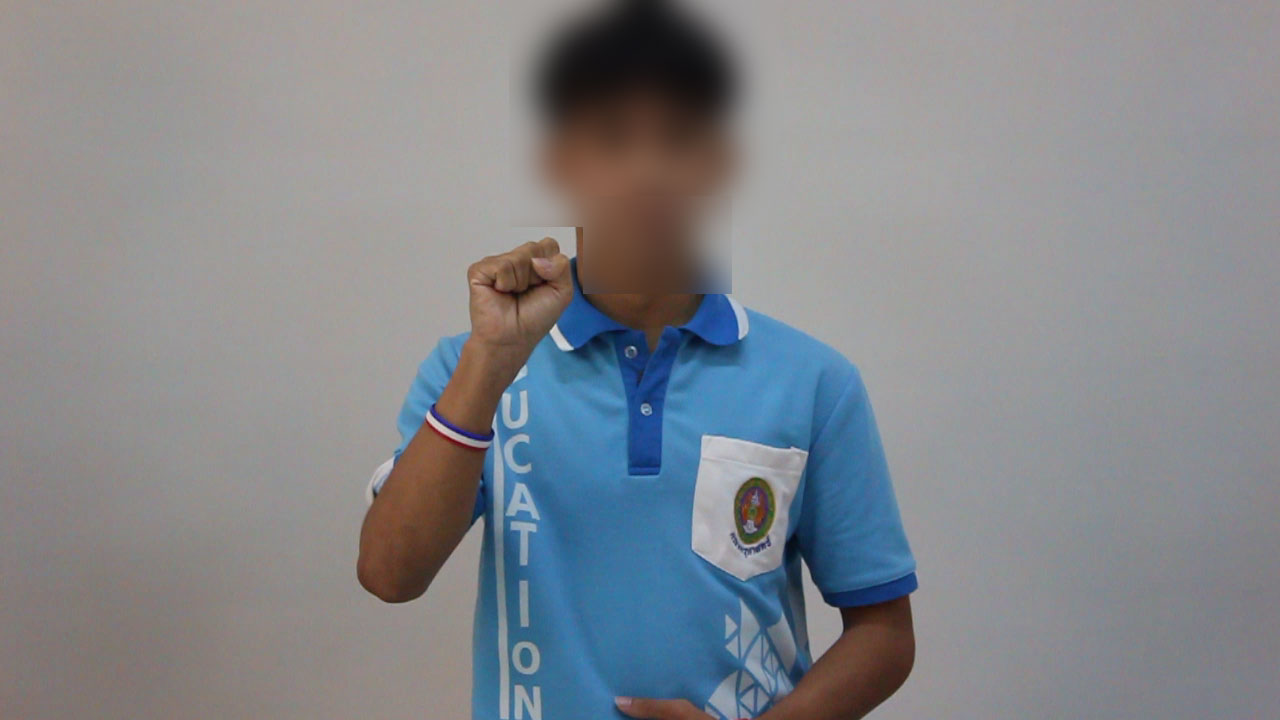sor: (450, 221, 578, 374)
